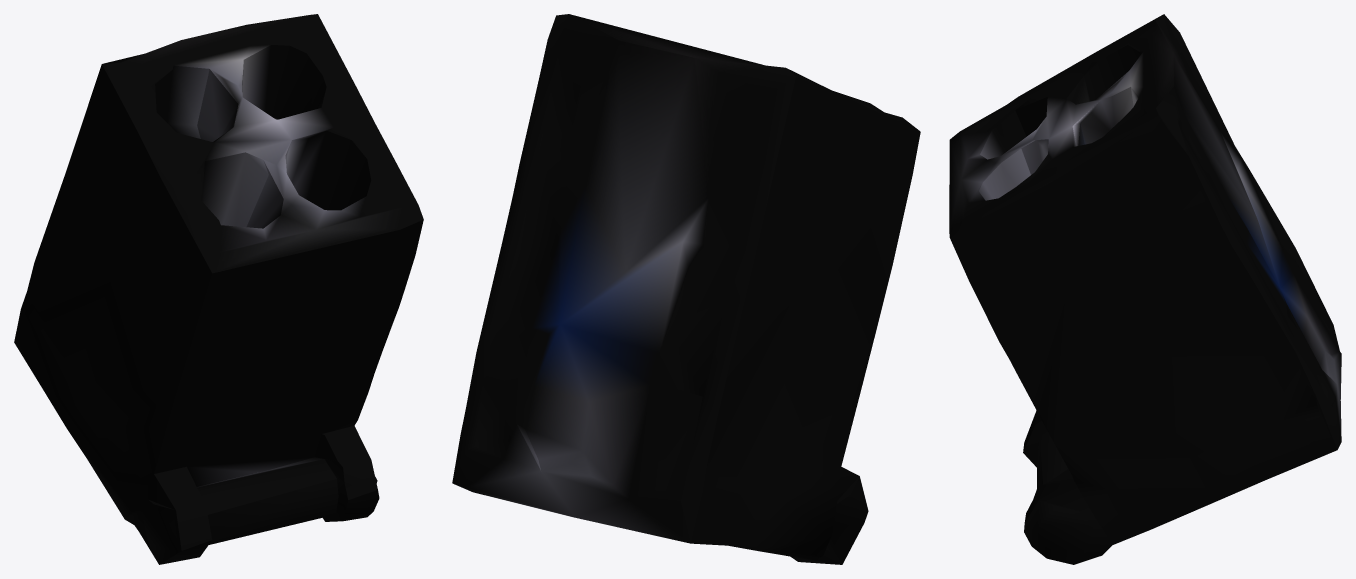
Rendered from launcher_source.glb.
3 renders of one model, left to right at view 1: azimuth 30°, elevation 25°; view 2: azimuth 150°, elevation 25°; view 3: azimuth 270°, elevation 25°, orthographic. The views are drawn at different scales.
Parts seen in each view (by area): view 1: geometry_0; view 2: geometry_0; view 3: geometry_0.
Part boxes in pixels (bbox=[...]): geometry_0: bbox=[14, 14, 423, 564]; geometry_0: bbox=[452, 14, 920, 564]; geometry_0: bbox=[949, 14, 1341, 564].
Bounding box in the file's own units: 0.4824 × 1 × 0.7803.
1 material, 1 textured.
